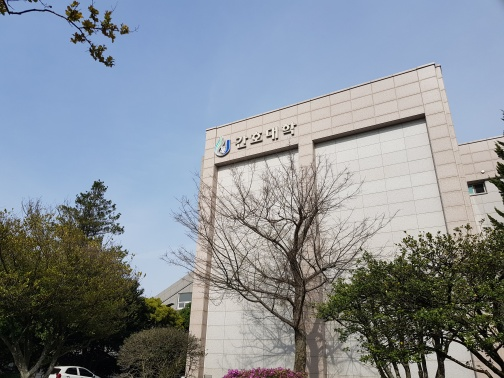College of Nursing: (183, 60, 484, 365), (209, 118, 301, 163)
